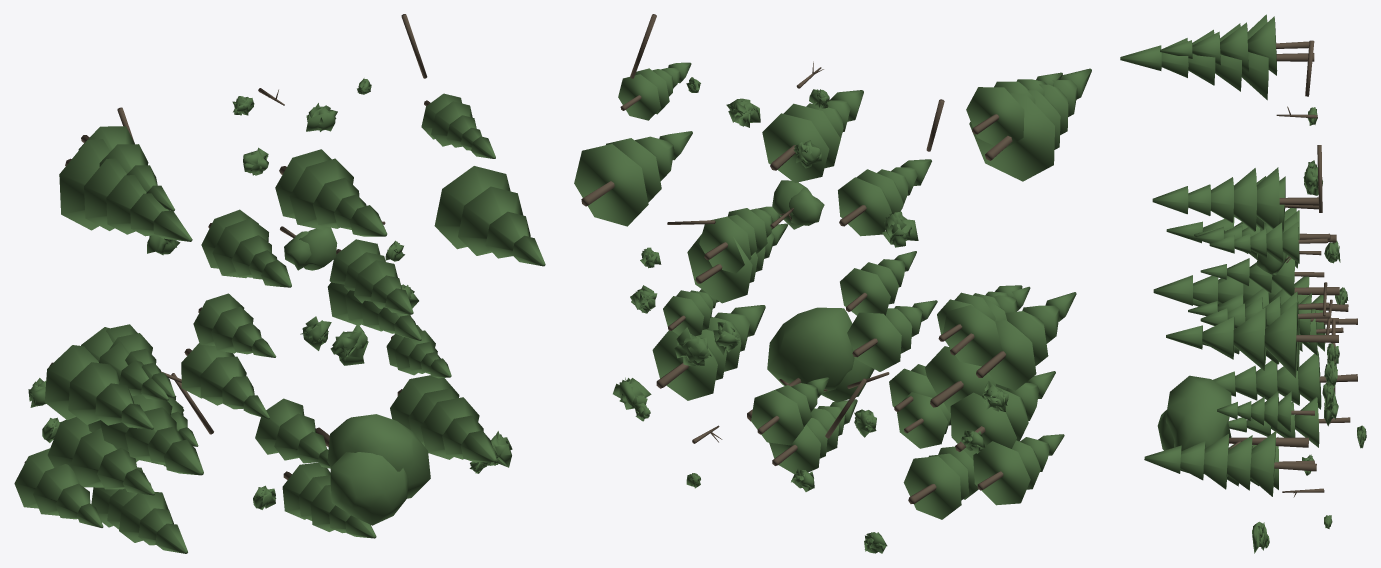
The model's file is batch_VEG_n001_p004.glb.
3 renders of one model, left to right at view 1: azimuth 30°, elevation 25°; view 2: azimuth 150°, elevation 25°; view 3: azimuth 270°, elevation 25°, orthographic. The views are drawn at different scales.
Visible parts, largest first — view 1: SAR_Tree_0742.001; view 2: SAR_Tree_0742.001; view 3: SAR_Tree_0742.001.
Part boxes in pixels (bbox=[...]): SAR_Tree_0742.001: bbox=[14, 14, 545, 553]; SAR_Tree_0742.001: bbox=[574, 14, 1091, 553]; SAR_Tree_0742.001: bbox=[1120, 14, 1366, 553].
Bounding box in the file's own units: 53.88 × 50.25 × 27.62.
